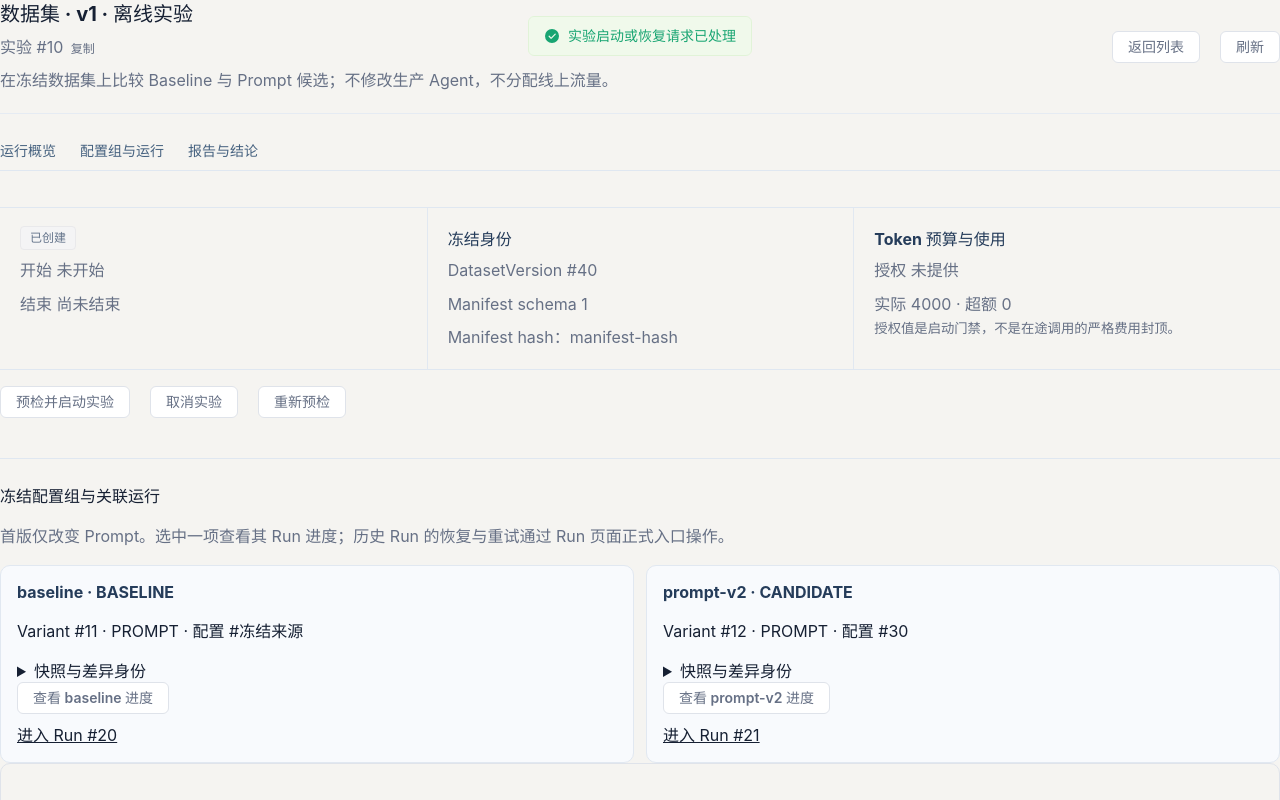
preflight, budget and mutations › refuses start after preflight budget grows or while confirmation changes scope
Click the button "预检并启动实验": (65, 402) [0, 386, 130, 418]
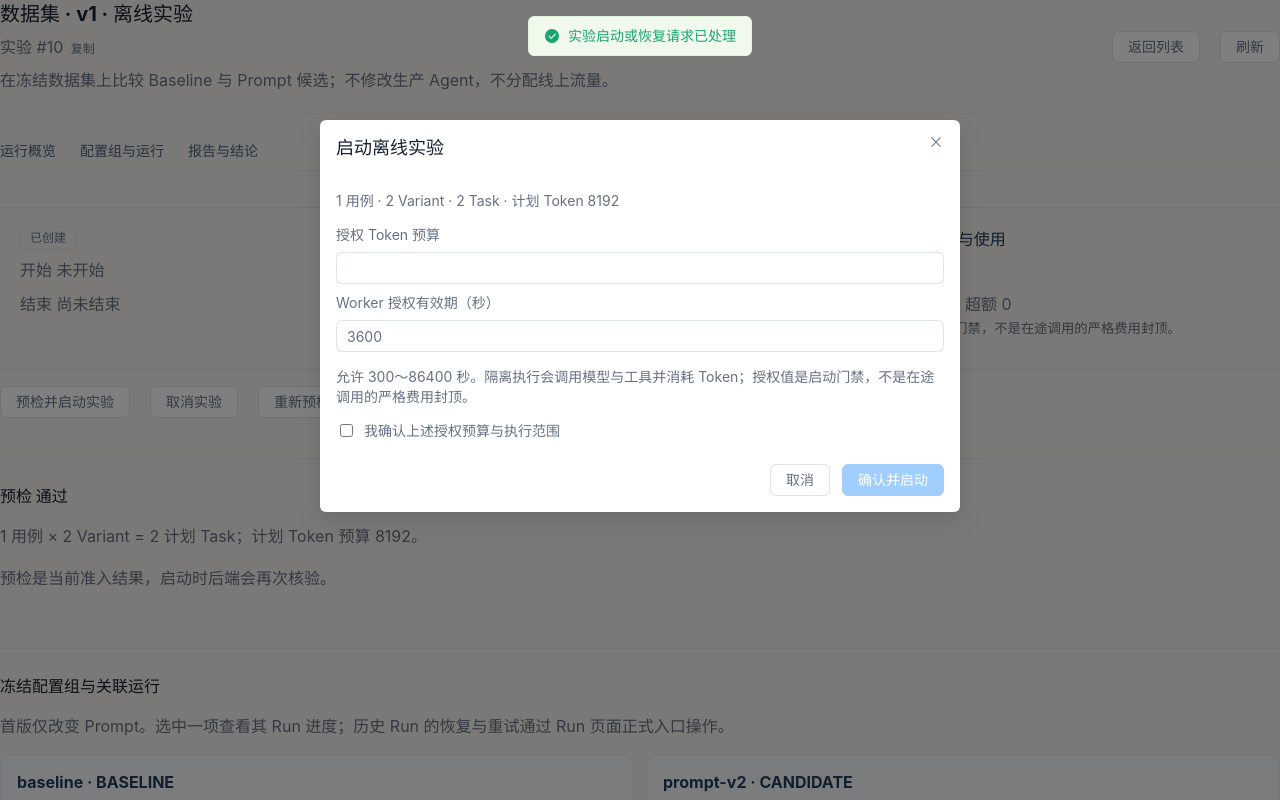
In the number field named "授权 Token 预算": (640, 268) [347, 253, 933, 283], type "8192"
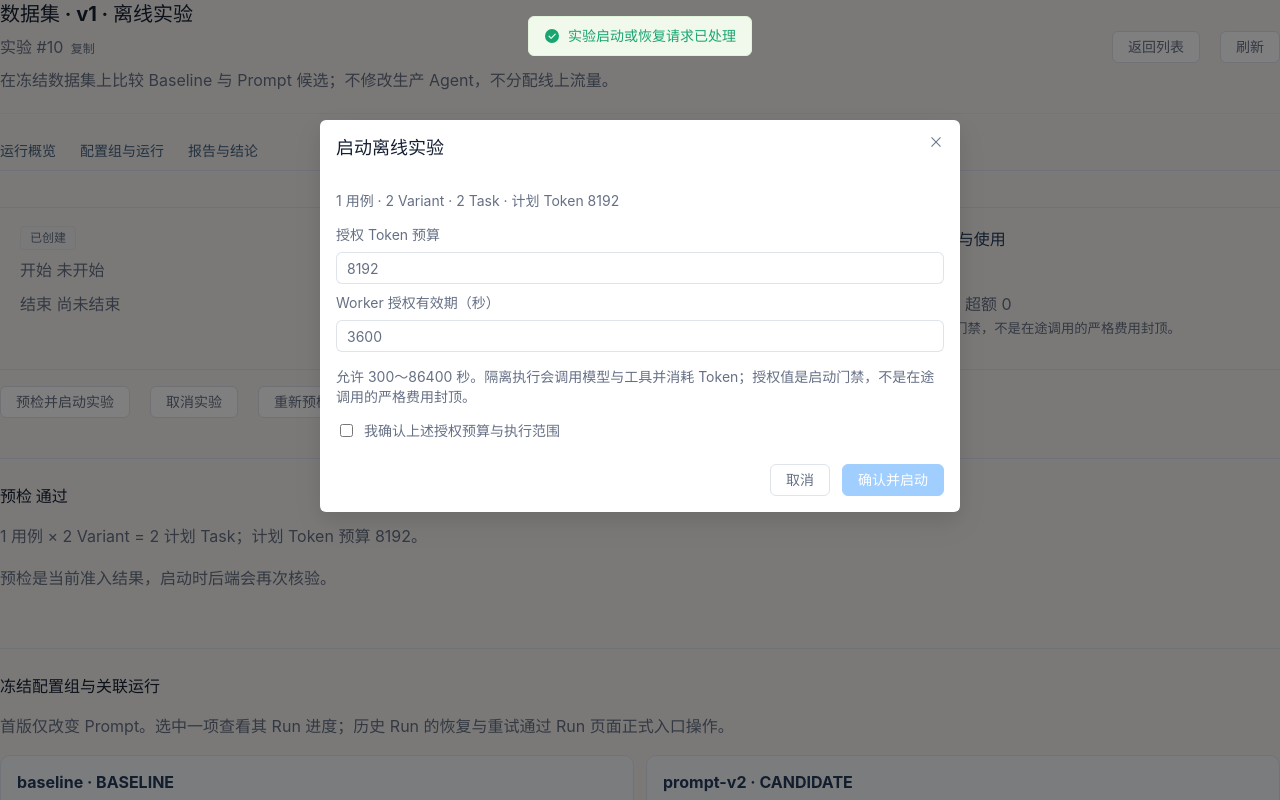
Click the checkbox named "确认实验预算与隔离执行": (346, 430) [340, 424, 353, 436]
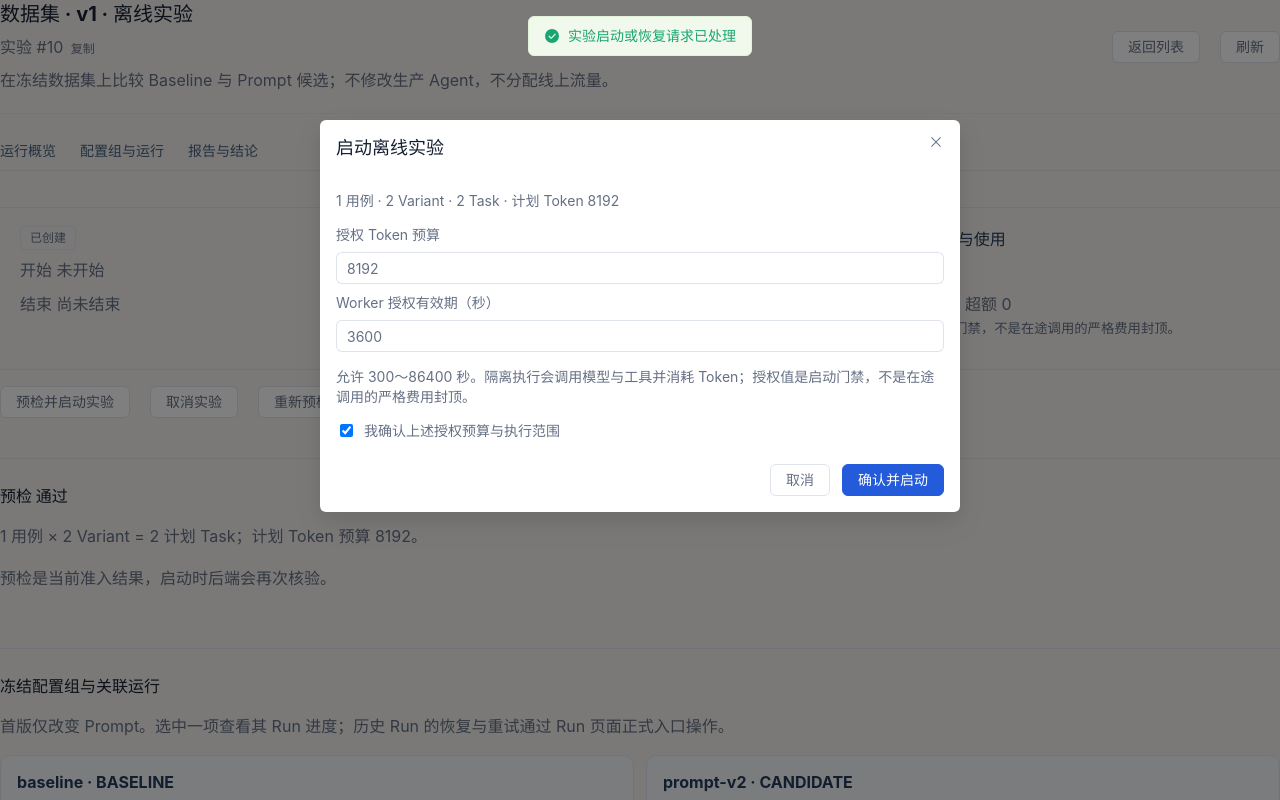
Click the button "确认并启动": (893, 480) [842, 464, 944, 496]
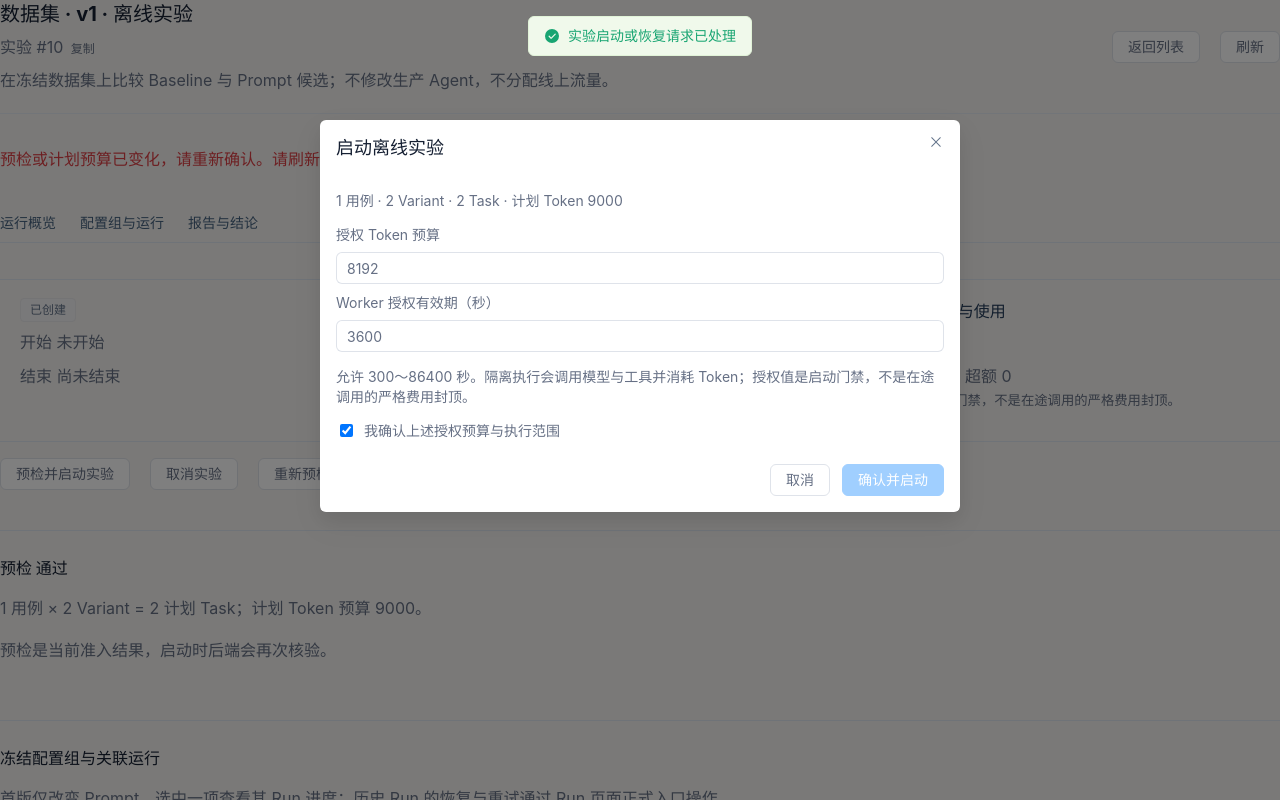
Result: the text "计划预算已变化" is shown at [0, 149, 432, 169]
